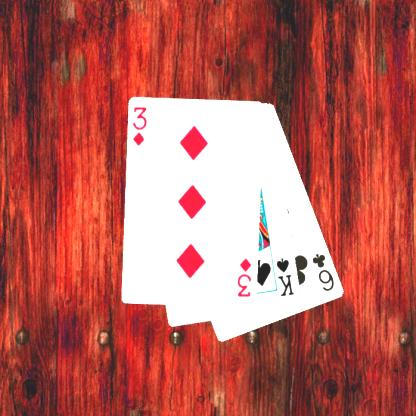3D: (235, 255, 253, 299), (130, 105, 148, 148)
6C: (309, 251, 336, 293)
KS: (274, 255, 296, 298)
